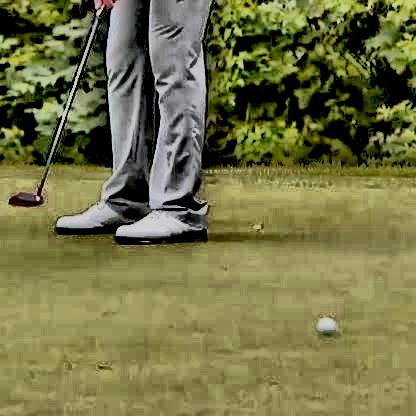golfball: (313, 313, 334, 334)
